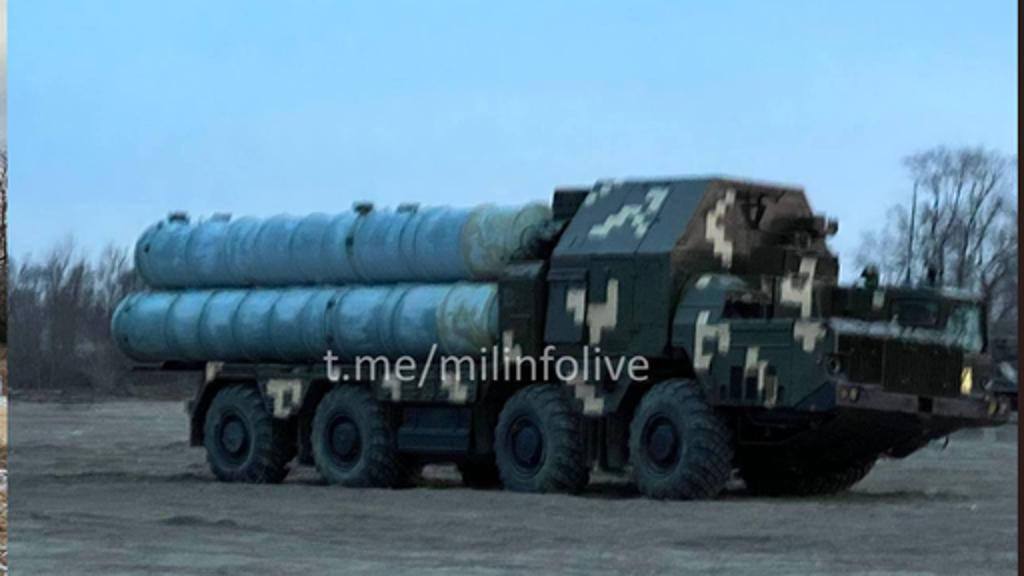MLRS: (86, 168, 1012, 506)
